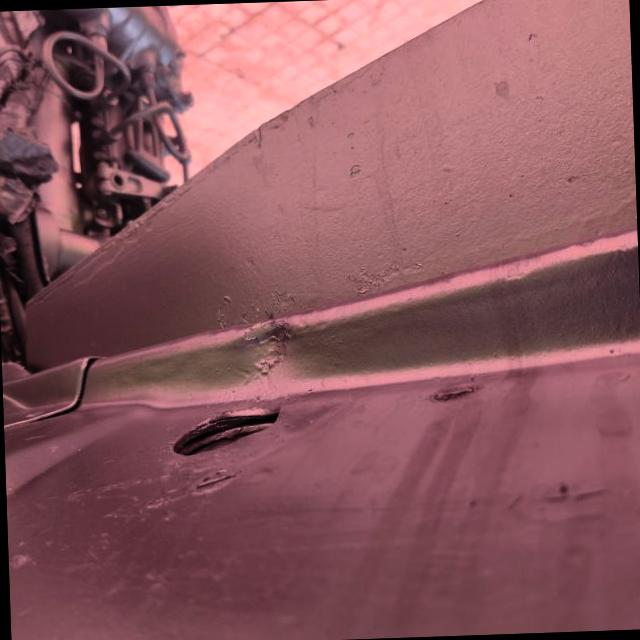dent: (226, 298, 322, 394)
